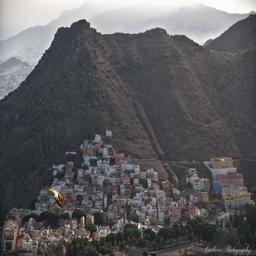Cuckoo: (49, 188, 66, 213)
